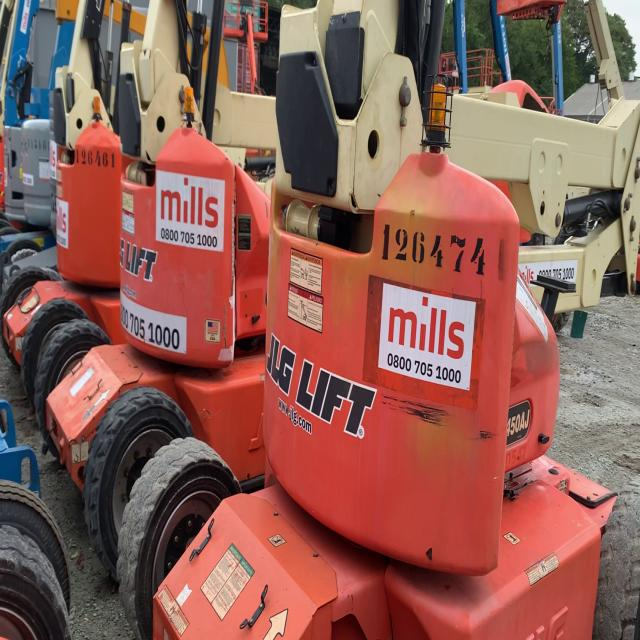Adesivos: (377, 280, 478, 393), (154, 167, 226, 254)
